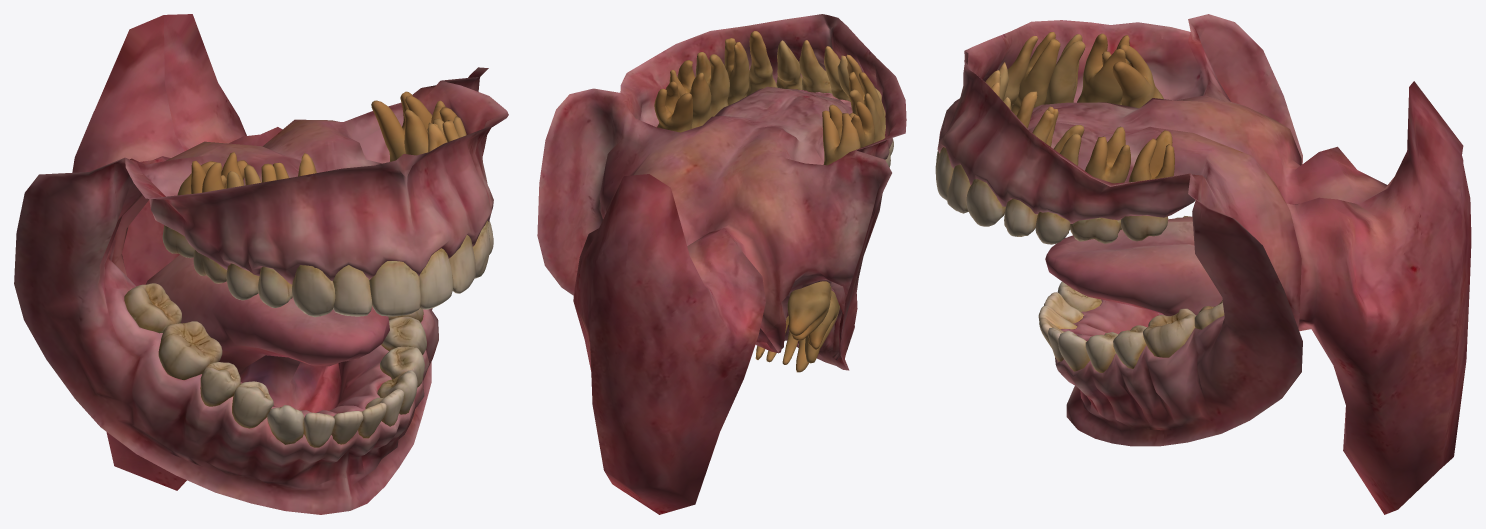
Rendered from human_mouth_optimized.glb.
3 renders of one model, left to right at view 1: azimuth 30°, elevation 25°; view 2: azimuth 150°, elevation 25°; view 3: azimuth 270°, elevation 25°, orthographic. The views are drawn at different scales.
Visible parts, largest first — view 1: mouth_0, lower_tooth_2, upper_tooth_7, upper_tooth_5, lower_tooth_1, upper_tooth_2, upper_tooth_14, upper_tooth_6, upper_tooth_8, lower_tooth_4, upper_tooth_4, lower_tooth_3 (+13 smaller); view 2: mouth_0, lower_tooth_1, upper_tooth_14, upper_tooth_13, upper_tooth_1, upper_tooth_12, upper_tooth_11, upper_tooth_10, upper_tooth_8, upper_tooth_2, upper_tooth_9, upper_tooth_4 (+3 smaller); view 3: mouth_0, upper_tooth_13, upper_tooth_14, upper_tooth_2, upper_tooth_1, lower_tooth_13, upper_tooth_4, upper_tooth_10, upper_tooth_3, upper_tooth_12, upper_tooth_11, lower_tooth_12 (+6 smaller).
Boxes of the visible parts, x1,y1,x2,y2 form: mouth_0: (14,14,508,514); lower_tooth_2: (158,321,222,379); upper_tooth_7: (369,261,420,316); upper_tooth_5: (292,153,335,317); lower_tooth_1: (124,283,181,333); upper_tooth_2: (191,152,243,283); upper_tooth_14: (371,91,432,161); upper_tooth_6: (333,265,371,316); upper_tooth_8: (419,248,453,309); lower_tooth_4: (232,381,273,428); upper_tooth_4: (257,162,292,307); lower_tooth_3: (200,362,240,406); mouth_0: (537,14,906,514); lower_tooth_1: (787,281,831,340); upper_tooth_14: (654,81,692,132); upper_tooth_13: (669,60,711,128); upper_tooth_1: (822,110,860,165); upper_tooth_12: (695,52,729,116); upper_tooth_11: (724,38,749,105); upper_tooth_10: (746,31,777,95); upper_tooth_8: (799,40,831,93); upper_tooth_2: (829,101,874,147); upper_tooth_9: (776,40,802,89); upper_tooth_4: (849,72,893,155); mouth_0: (937,14,1471,514); upper_tooth_13: (1070,126,1130,243); upper_tooth_14: (1121,130,1174,241); upper_tooth_2: (1077,33,1129,104); upper_tooth_1: (1102,44,1163,108); lower_tooth_13: (1143,308,1196,357); upper_tooth_4: (1011,32,1060,115); upper_tooth_10: (966,91,1037,226); upper_tooth_3: (1044,34,1085,104); upper_tooth_12: (1035,125,1084,244); upper_tooth_11: (1004,106,1058,236); lower_tooth_12: (1113,325,1146,368).
Bounding box in the file's own units: 0.2433 × 0.2663 × 0.2801.
Materials: 2 (2 with a texture image).
